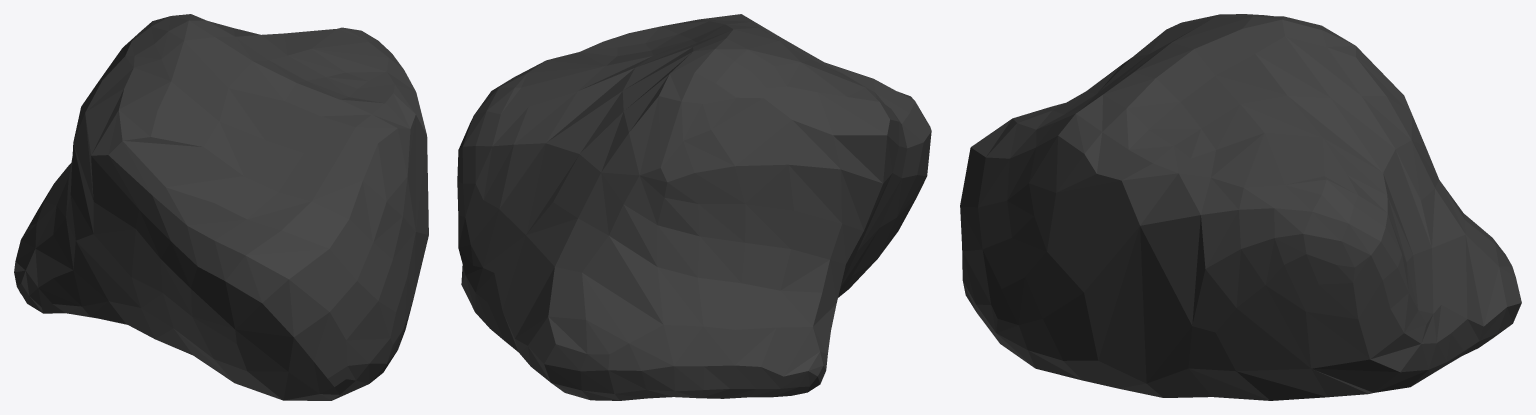
File: C_4_bone_C_4_bone.glb
3 views of the same model, side by side, from view 1: azimuth 30°, elevation 25°; view 2: azimuth 150°, elevation 25°; view 3: azimuth 270°, elevation 25° (orthographic). The views are drawn at different scales.
Parts seen in each view (by area): view 1: C_4_bone_C_4_bone; view 2: C_4_bone_C_4_bone; view 3: C_4_bone_C_4_bone.
Boxes of the visible parts, x1=… form: C_4_bone_C_4_bone: x1=14, y1=14, x2=428, y2=400; C_4_bone_C_4_bone: x1=457, y1=14, x2=931, y2=400; C_4_bone_C_4_bone: x1=960, y1=14, x2=1521, y2=400.
Size of the model in its own units: 0.0558 by 0.046 by 0.072.
1 material, 1 textured.
